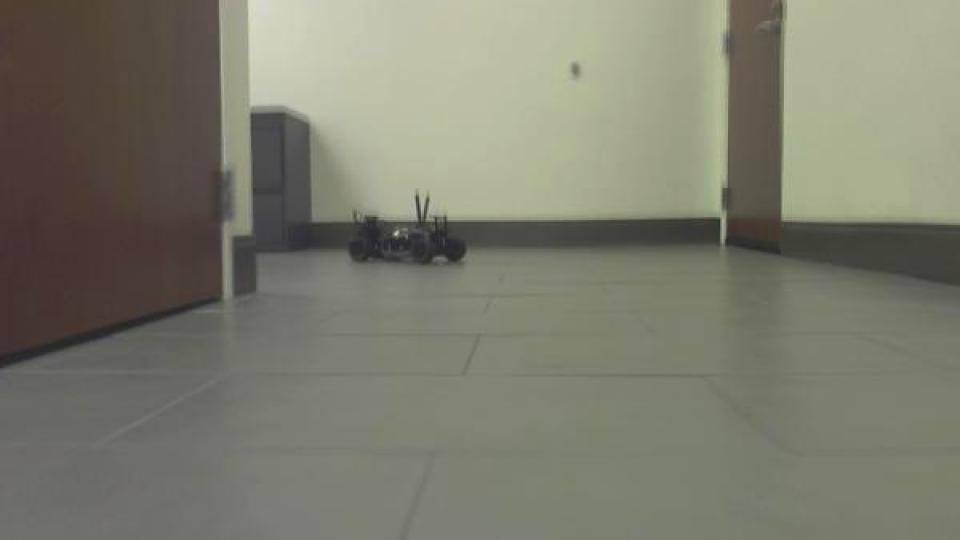car: (346, 188, 472, 268)
